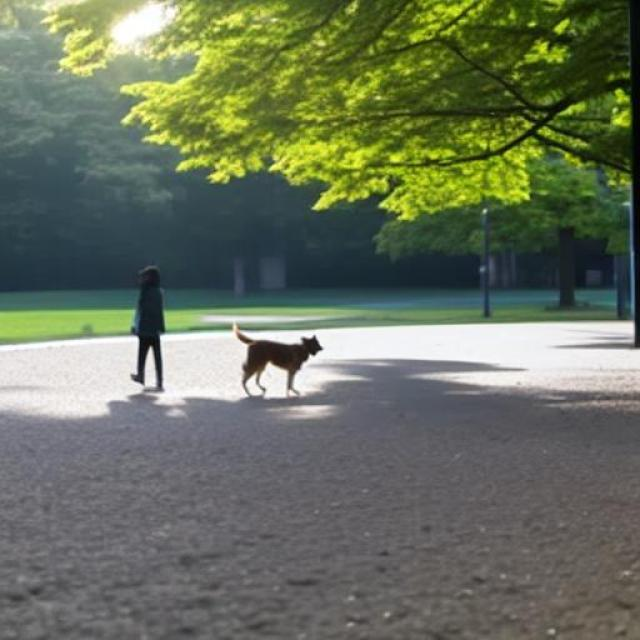Unleashed_Dog: (130, 321, 324, 401)
